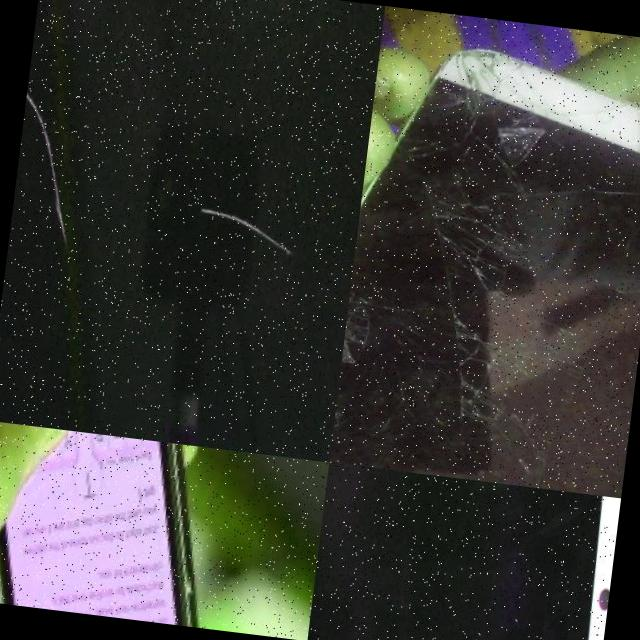Crack: (362, 105, 626, 456)
Scratches: (20, 78, 97, 272), (192, 192, 300, 270)
